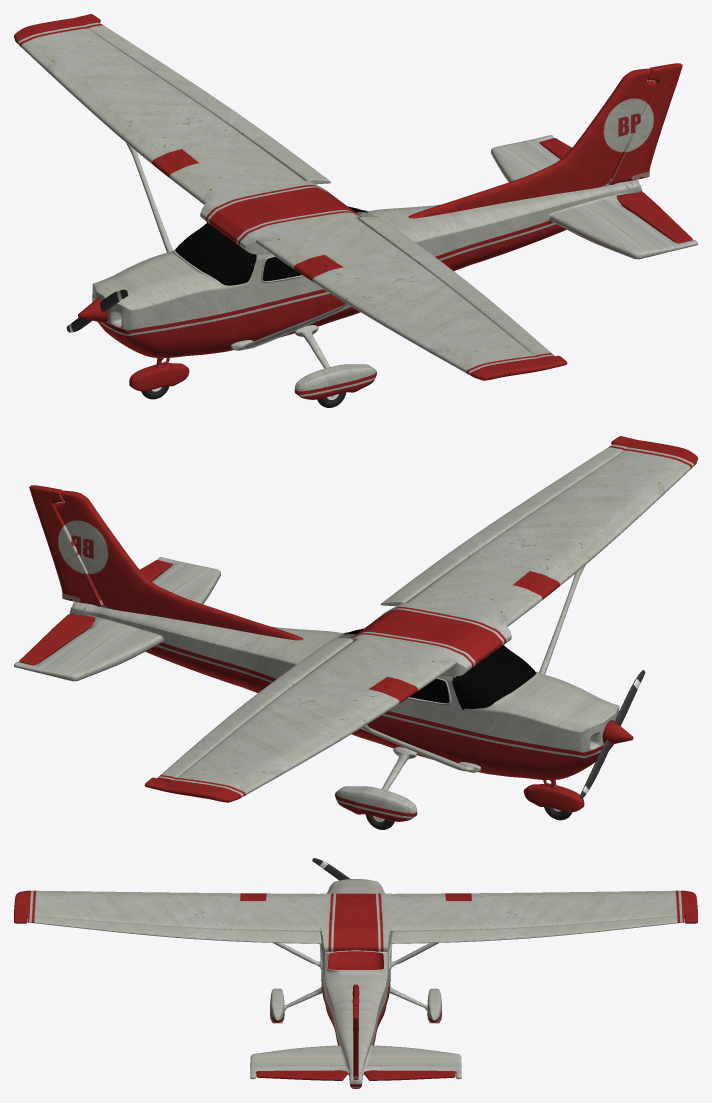
The model's file is cesna_airplane.glb.
3 views of the same model, one above another, from view 1: azimuth 30°, elevation 25°; view 2: azimuth 150°, elevation 25°; view 3: azimuth 270°, elevation 25° (orthographic). The views are drawn at different scales.
Visible parts, largest first — view 1: Plane.001, Plane, Plane.004, Plane.003; view 2: Plane.001, Plane, Plane.004, Plane.003, Cube.001; view 3: Plane.001, Plane.
Boxes of the visible parts, box(x1,y1,x2,y2) form: Plane.001: box(14, 14, 567, 380); Plane: box(92, 63, 697, 407); Plane.004: box(175, 222, 256, 285); Plane.003: box(129, 358, 189, 391); Plane.001: box(144, 436, 697, 802); Plane: box(14, 485, 619, 829); Plane.004: box(452, 645, 535, 720); Plane.003: box(523, 780, 584, 812); Cube.001: box(580, 670, 645, 798); Plane.001: box(14, 890, 697, 951); Plane: box(250, 879, 461, 1088).
Bounding box in the file's own units: 19.25 × 6.38 × 26.35.
13 materials, 5 textured.
